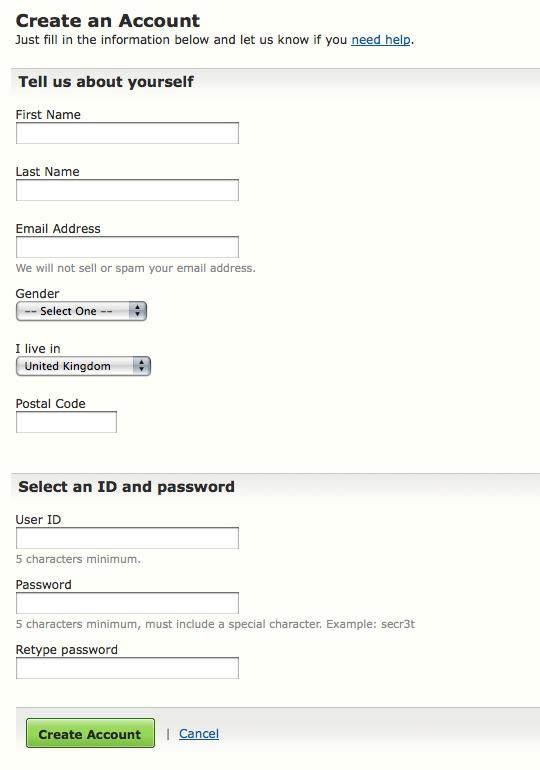button: (18, 714, 161, 751), (173, 714, 234, 752)
dropdown: (11, 286, 154, 326), (10, 356, 156, 382)
textbox: (13, 119, 245, 153), (14, 231, 255, 262)
